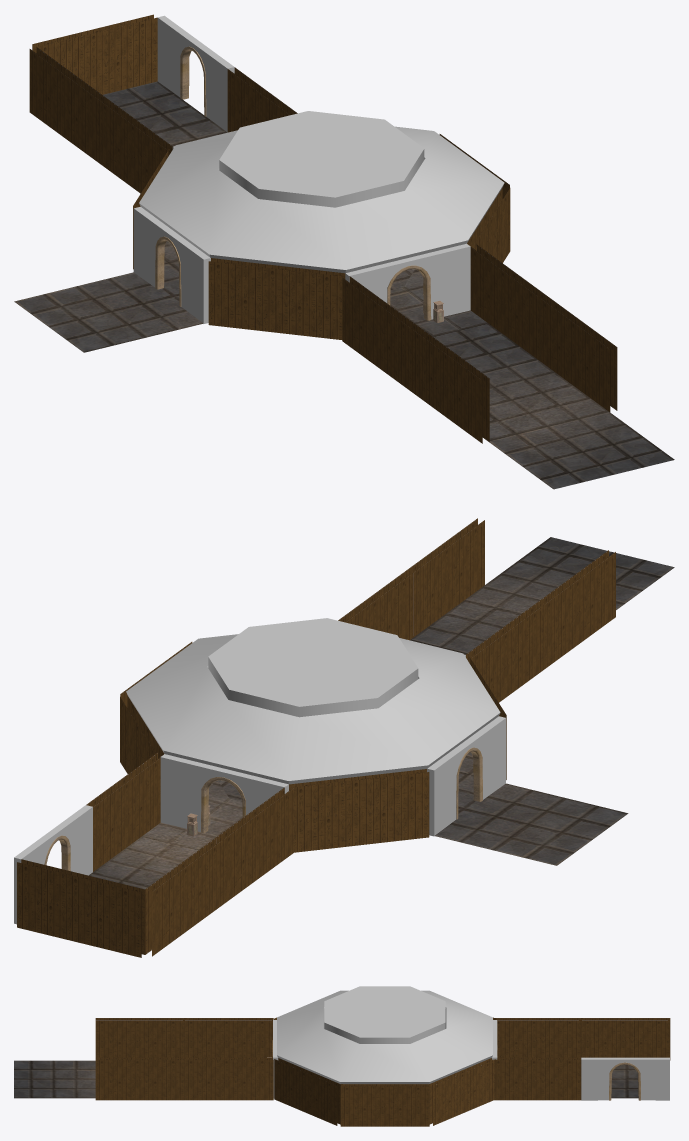
The model's file is lvl3basic.fbx.
3 views of the same model, one above another, from view 1: azimuth 30°, elevation 25°; view 2: azimuth 150°, elevation 25°; view 3: azimuth 270°, elevation 25° (orthographic). The views are drawn at different scales.
Visible parts, largest first — view 1: polySurface10, pCylinder2, pCylinder3, pCube6, pCube3, pCube11, pCube10, pCube8, pCube5, pCube9, polySurface13, polySurface15 (+6 smaller); view 2: pCylinder2, polySurface10, pCylinder3, pCube7, pCube3, pCube5, pCube10, pCube11, pCube4, pCube2, pCube8, polySurface11 (+6 smaller); view 3: pCylinder2, pCylinder3, polySurface10, pCube11, pCube9, NH_split01:museumhallRD:pCube2, pCube2, pCube5, pCube10, pCube8, pCube4, NH_split01:museumhallRD:pCube5 (+4 smaller).
Boxes of the visible parts, x1,y1,x2,y2 form: polySurface10: (14, 81, 674, 489); pCylinder2: (139, 126, 504, 273); pCylinder3: (219, 111, 424, 207); pCube6: (208, 258, 345, 339); pCube3: (32, 14, 157, 94); pCube11: (540, 296, 617, 412); pCube10: (412, 327, 489, 443); pCube8: (342, 276, 419, 391); pCube5: (29, 47, 106, 163); pCube9: (470, 245, 546, 360); polySurface13: (345, 243, 470, 319); polySurface15: (133, 207, 210, 323); pCylinder2: (126, 634, 500, 784); polySurface10: (89, 537, 674, 954); pCylinder3: (208, 618, 418, 717); pCube7: (289, 769, 429, 852); pCube3: (17, 859, 145, 957); pCube5: (145, 837, 223, 956); pCube10: (537, 550, 615, 669); pCube11: (406, 518, 484, 637); pCube4: (217, 786, 295, 903); pCube2: (86, 752, 160, 871); pCube8: (466, 603, 543, 702); polySurface11: (160, 754, 288, 831); pCylinder2: (277, 990, 492, 1083); pCylinder3: (324, 986, 445, 1043); polySurface10: (14, 1060, 638, 1124); pCube11: (95, 1057, 184, 1100); pCube9: (184, 1057, 273, 1100); NH_split01:museumhallRD:pCube2: (340, 1084, 429, 1126); pCube2: (492, 1057, 581, 1100); pCube5: (581, 1018, 670, 1060); pCube10: (95, 1018, 184, 1057); pCube8: (184, 1018, 273, 1057); pCube4: (493, 1018, 581, 1057); NH_split01:museumhallRD:pCube5: (274, 1058, 340, 1125).
Size of the model in its own units: 11.47 by 3.19 by 24.29.
